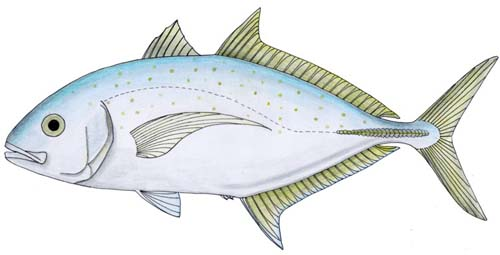fish: (5, 6, 499, 251)
